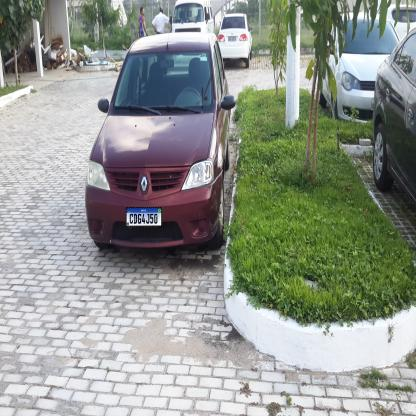PlacaM: (126, 207, 162, 227)
